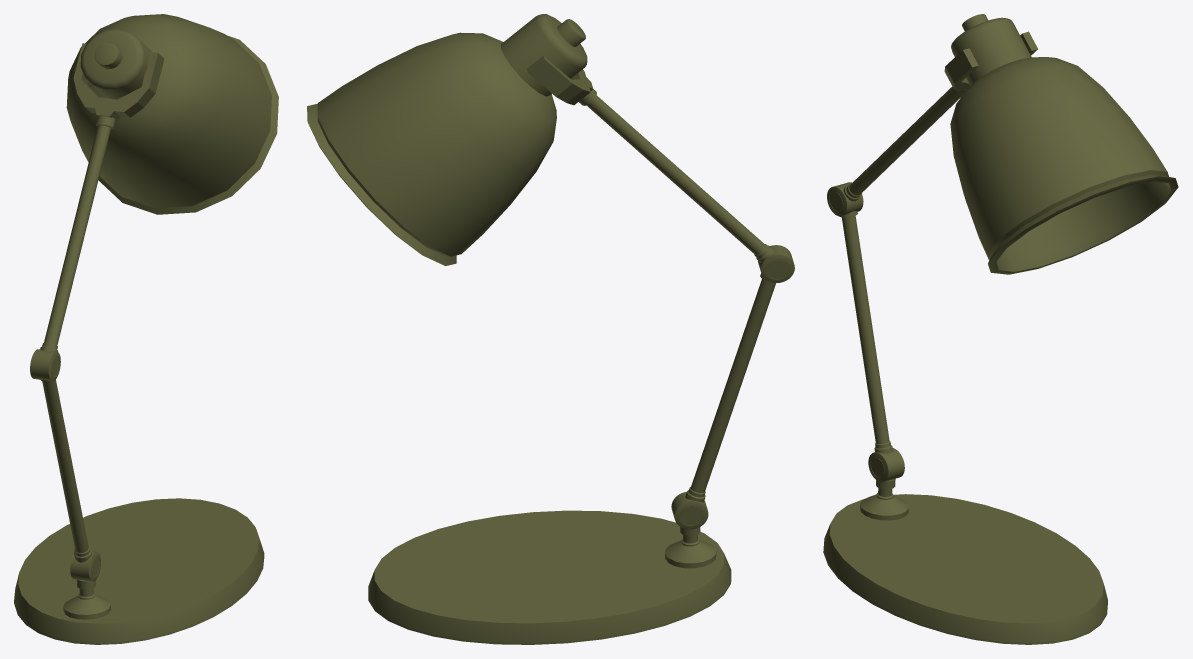
The model's file is desklamp.fbx.
3 renders of one model, left to right at view 1: azimuth 30°, elevation 25°; view 2: azimuth 150°, elevation 25°; view 3: azimuth 270°, elevation 25°, orthographic. The views are drawn at different scales.
Visible parts, largest first — view 1: desklamp; view 2: desklamp; view 3: desklamp.
Part boxes in pixels (x1,y1,x2,y2): desklamp: (14, 14, 278, 644); desklamp: (307, 14, 794, 644); desklamp: (823, 14, 1178, 644).
Bounding box in the file's own units: 57.27 × 87.98 × 50.54.
